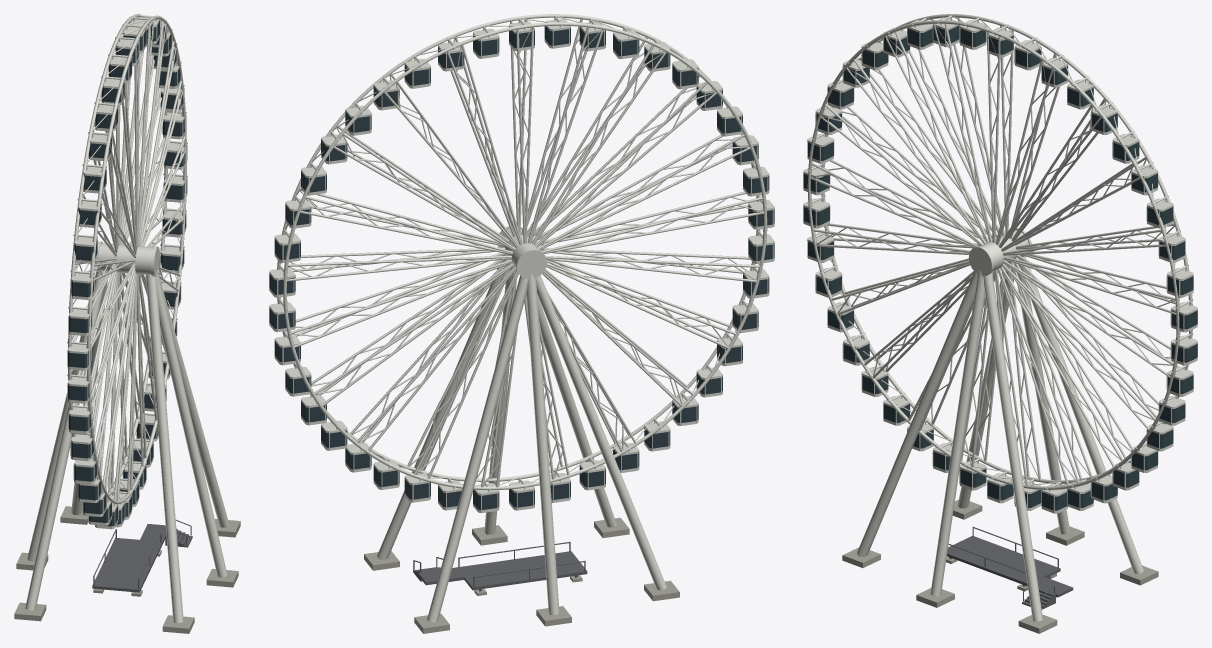
The model's file is skyview-atlanta-near.glb.
The picture shows the model from 3 angles, left to right: view 1: azimuth 30°, elevation 25°; view 2: azimuth 150°, elevation 25°; view 3: azimuth 270°, elevation 25°; orthographic projection. The views are drawn at different scales.
Parts seen in each view (by area): view 1: skyview-atlanta-0-lattice, skyview-atlanta-0-glass, skyview-atlanta-0-iron, skyview-atlanta-0-concrete; view 2: skyview-atlanta-0-lattice, skyview-atlanta-0-glass, skyview-atlanta-0-iron, skyview-atlanta-0-concrete; view 3: skyview-atlanta-0-lattice, skyview-atlanta-0-glass, skyview-atlanta-0-iron, skyview-atlanta-0-concrete.
Part boxes in pixels (x1,y1,x2,y2): skyview-atlanta-0-lattice: [25, 14, 229, 622]; skyview-atlanta-0-glass: [68, 20, 186, 526]; skyview-atlanta-0-iron: [92, 519, 192, 592]; skyview-atlanta-0-concrete: [14, 506, 240, 633]; skyview-atlanta-0-lattice: [269, 14, 774, 622]; skyview-atlanta-0-glass: [269, 26, 774, 509]; skyview-atlanta-0-iron: [413, 542, 587, 591]; skyview-atlanta-0-concrete: [364, 517, 679, 633]; skyview-atlanta-0-lattice: [803, 14, 1197, 621]; skyview-atlanta-0-glass: [804, 25, 1197, 510]; skyview-atlanta-0-iron: [947, 526, 1073, 609]; skyview-atlanta-0-concrete: [842, 500, 1158, 633].
Bounding box in the file's own units: 35.92 × 60.96 × 40.31.
